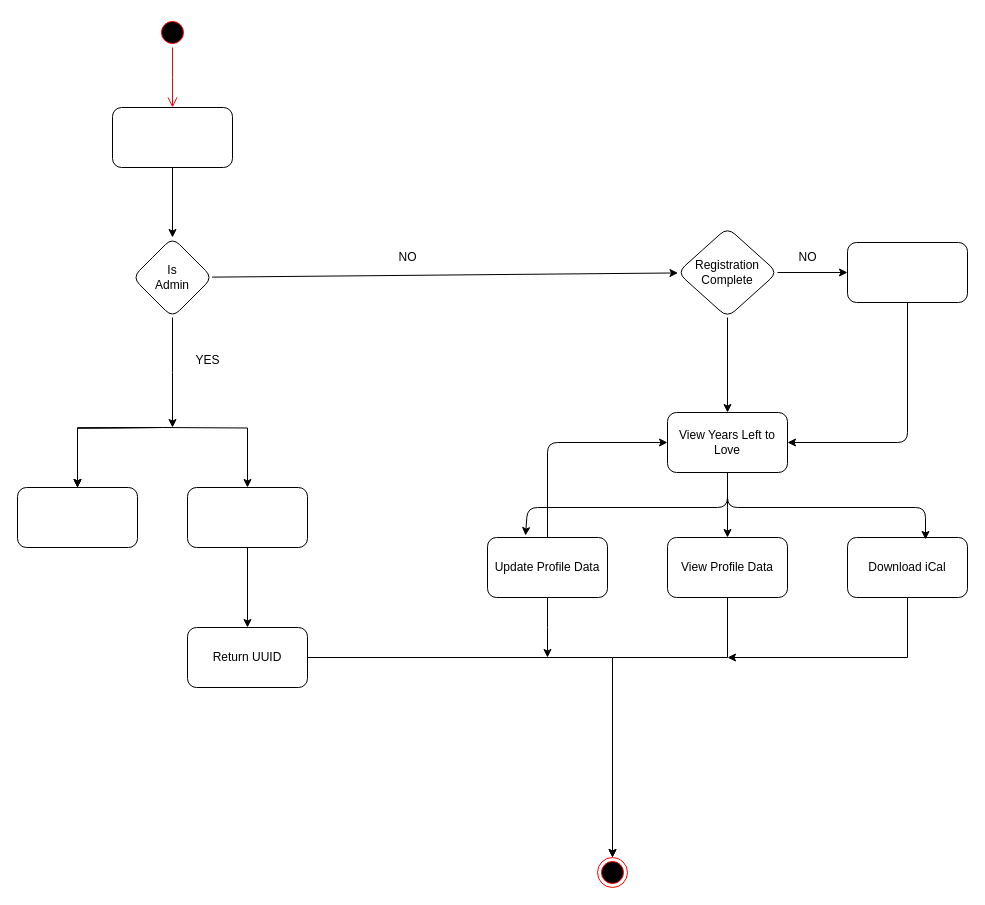
This 985x905 diagram has some shape labels left out. Here are the shapes that lost their labels. From the top down, the box of each, then its label:
(112, 106, 232, 168): Login
(846, 242, 968, 302): Complete Registration
(16, 486, 138, 548): Export Data
(186, 486, 308, 548): Register User
